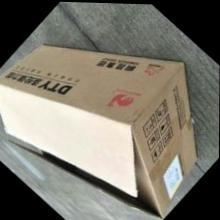cardboard: (0, 2, 219, 219)
